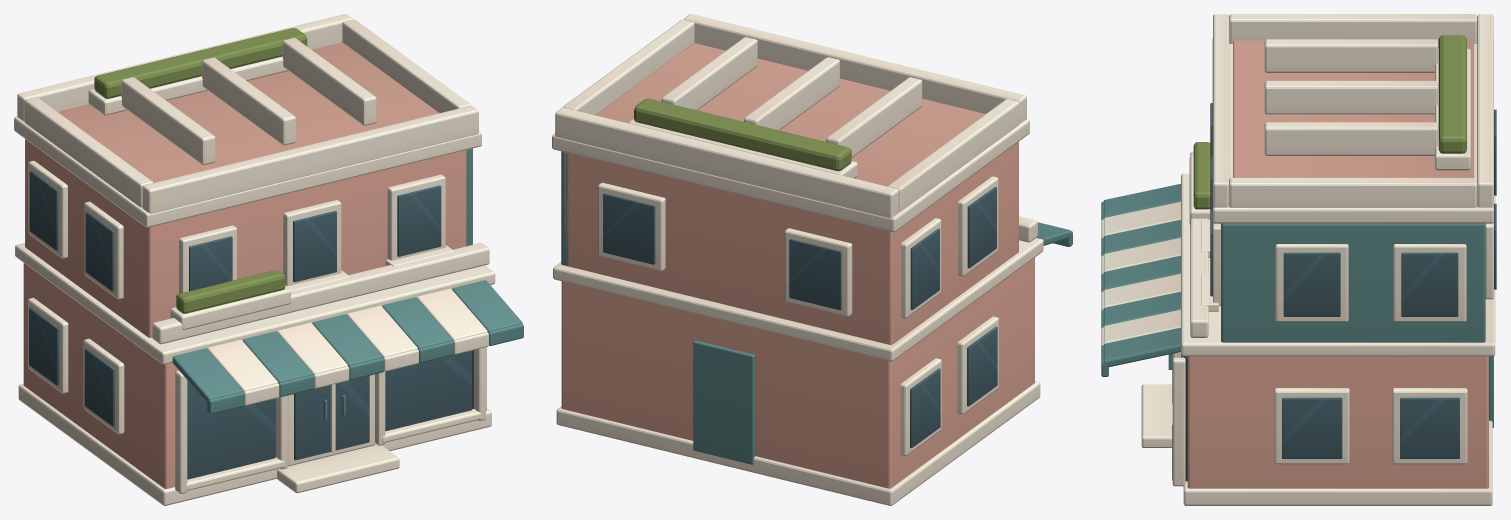
The model's file is 04C-market-blender.glb.
3 views of the same model, side by side, from view 1: azimuth 30°, elevation 25°; view 2: azimuth 150°, elevation 25°; view 3: azimuth 270°, elevation 25° (orthographic). The views are drawn at different scales.
Visible parts, largest first — view 1: 04C Peach Modern; view 2: 04C Peach Modern; view 3: 04C Peach Modern.
Boxes of the visible parts, box(x1,y1,x2,y2) form: 04C Peach Modern: box(14, 14, 523, 505); 04C Peach Modern: box(552, 14, 1072, 505); 04C Peach Modern: box(1101, 14, 1496, 505).
Bounding box in the file's own units: 6.28 × 5.71 × 6.04.
Materials: 7 (7 with a texture image).
